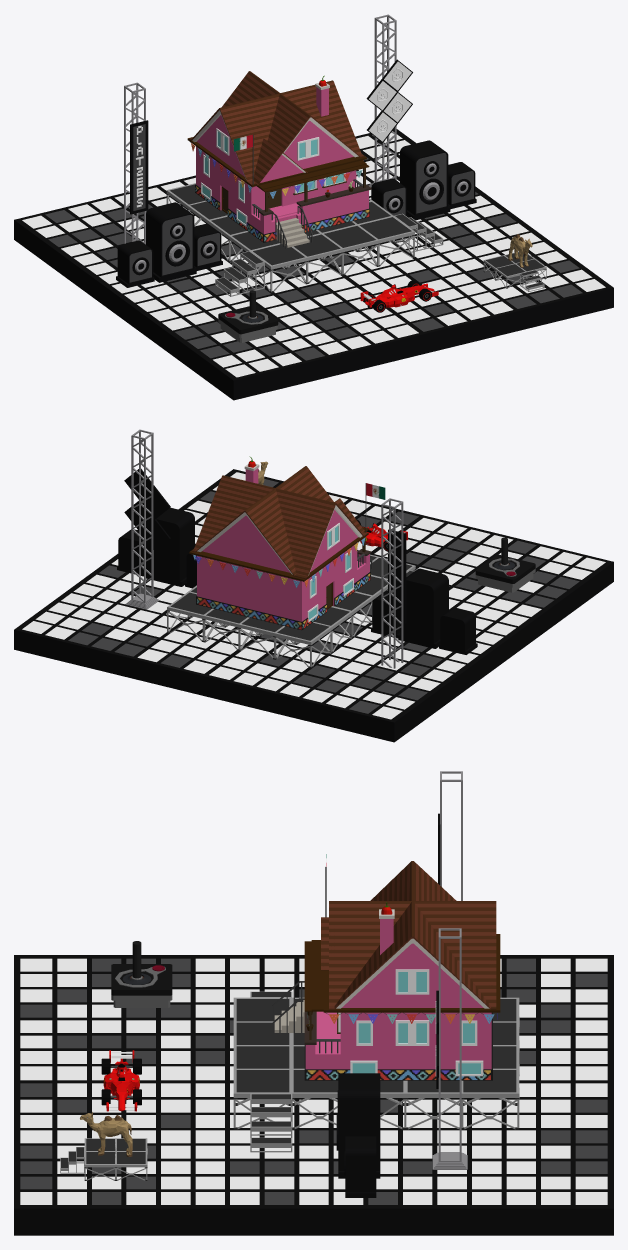
The picture shows the model from 3 angles, top to bottom: view 1: azimuth 30°, elevation 25°; view 2: azimuth 150°, elevation 25°; view 3: azimuth 270°, elevation 25°; orthographic projection. The views are drawn at different scales.
Visible parts, largest first — view 1: Cube.008, Cube.1005, OBJRANDOM_JOYSTICK, VEHICLES_FORMULA_1; view 2: Cube.008, Cube.1005, OBJRANDOM_JOYSTICK, VEHICLES_FORMULA_1; view 3: Cube.008, Cube.1005, OBJRANDOM_JOYSTICK, VEHICLES_FORMULA_1, ANIMAL_CAMELLO.
Part boxes in pixels (<box>): Cube.008: <box>14,14,613,400</box>; Cube.1005: <box>187,71,371,248</box>; OBJRANDOM_JOYSTICK: <box>218,290,278,342</box>; VEHICLES_FORMULA_1: <box>360,280,438,312</box>; Cube.008: <box>14,429,613,742</box>; Cube.1005: <box>189,456,385,630</box>; OBJRANDOM_JOYSTICK: <box>475,537,535,592</box>; VEHICLES_FORMULA_1: <box>356,519,407,551</box>; Cube.008: <box>14,771,613,1235</box>; Cube.1005: <box>272,854,500,1080</box>; OBJRANDOM_JOYSTICK: <box>111,941,172,1007</box>; VEHICLES_FORMULA_1: <box>101,1050,141,1111</box>; ANIMAL_CAMELLO: <box>80,1112,132,1156</box>.
Size of the model in its own units: 4000 by 1975 by 4000.
78 materials, 3 textured.
